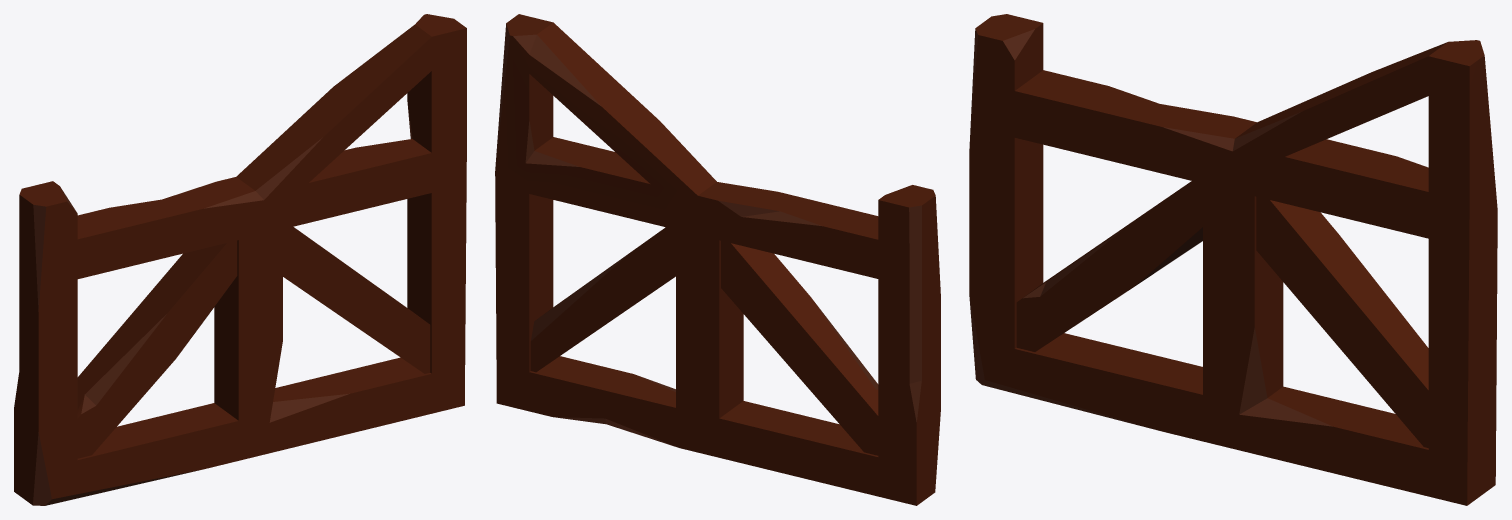
Rendered from Gate_Door_Right.001_1.fbx.
3 views of the same model, side by side, from view 1: azimuth 30°, elevation 25°; view 2: azimuth 150°, elevation 25°; view 3: azimuth 330°, elevation 25° (orthographic). The views are drawn at different scales.
Parts seen in each view (by area): view 1: Gate_Door_Right.001_1; view 2: Gate_Door_Right.001_1; view 3: Gate_Door_Right.001_1.
Part boxes in pixels (bbox=[...]): Gate_Door_Right.001_1: bbox=[14, 14, 466, 505]; Gate_Door_Right.001_1: bbox=[495, 14, 940, 505]; Gate_Door_Right.001_1: bbox=[969, 14, 1497, 505].
Size of the model in its own units: 41.76 by 35.11 by 4.14.
